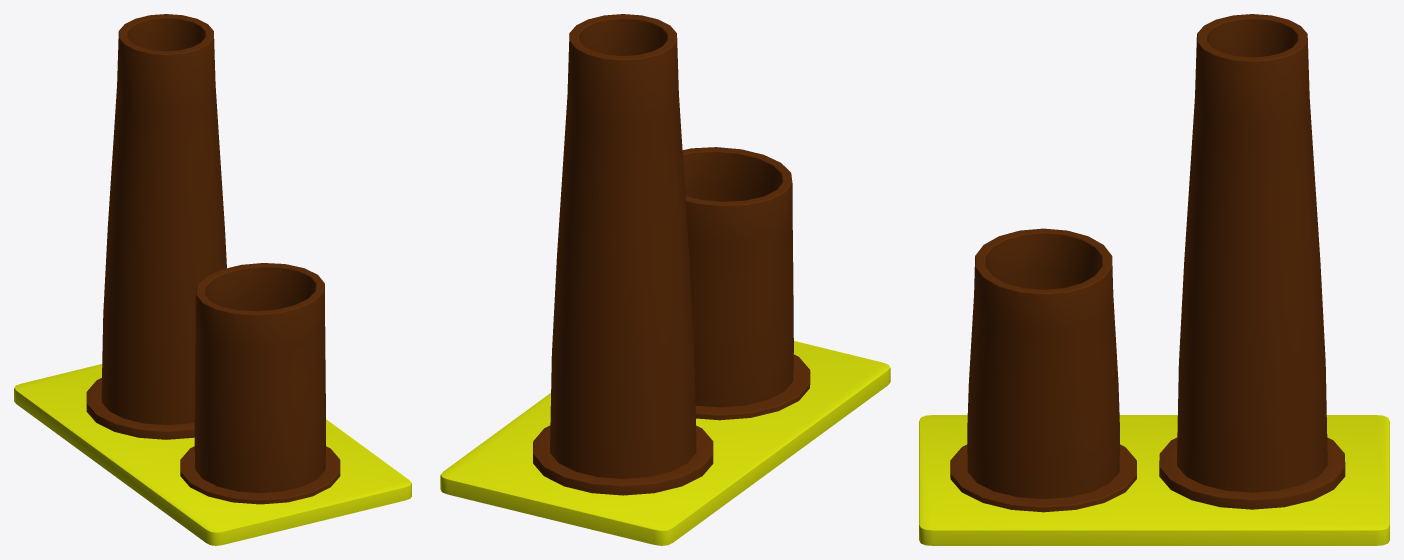
Rendered from Cheminee_Metal_01.fbx.
3 renders of one model, left to right at view 1: azimuth 30°, elevation 25°; view 2: azimuth 150°, elevation 25°; view 3: azimuth 270°, elevation 25°, orthographic. The views are drawn at different scales.
Visible parts, largest first — view 1: Cheminee_Metal_01_LOD0; view 2: Cheminee_Metal_01_LOD0; view 3: Cheminee_Metal_01_LOD0.
Part boxes in pixels (x1,y1,x2,y2): Cheminee_Metal_01_LOD0: [14, 14, 411, 545]; Cheminee_Metal_01_LOD0: [440, 14, 890, 545]; Cheminee_Metal_01_LOD0: [919, 14, 1389, 545].
Bounding box in the file's own units: 78.55 × 142 × 135.
